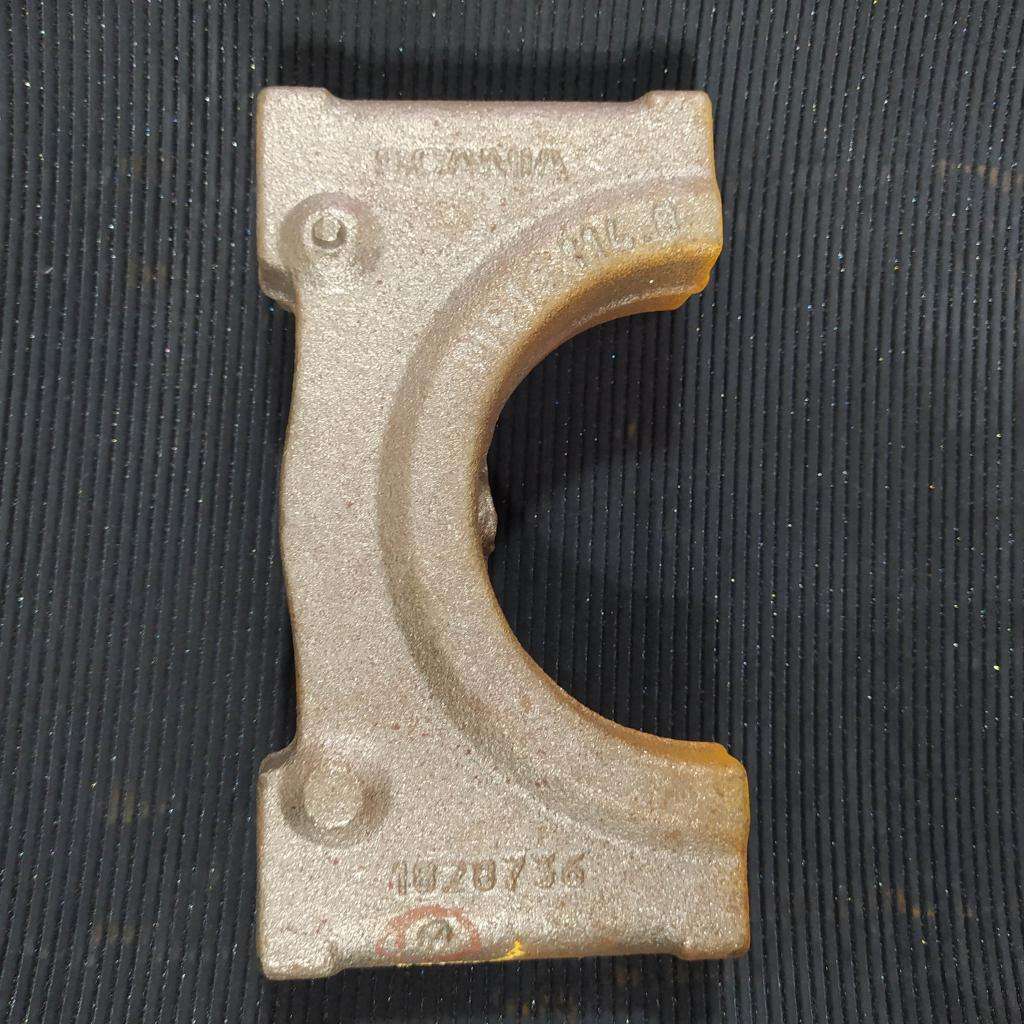buraco: (415, 920, 456, 954)
